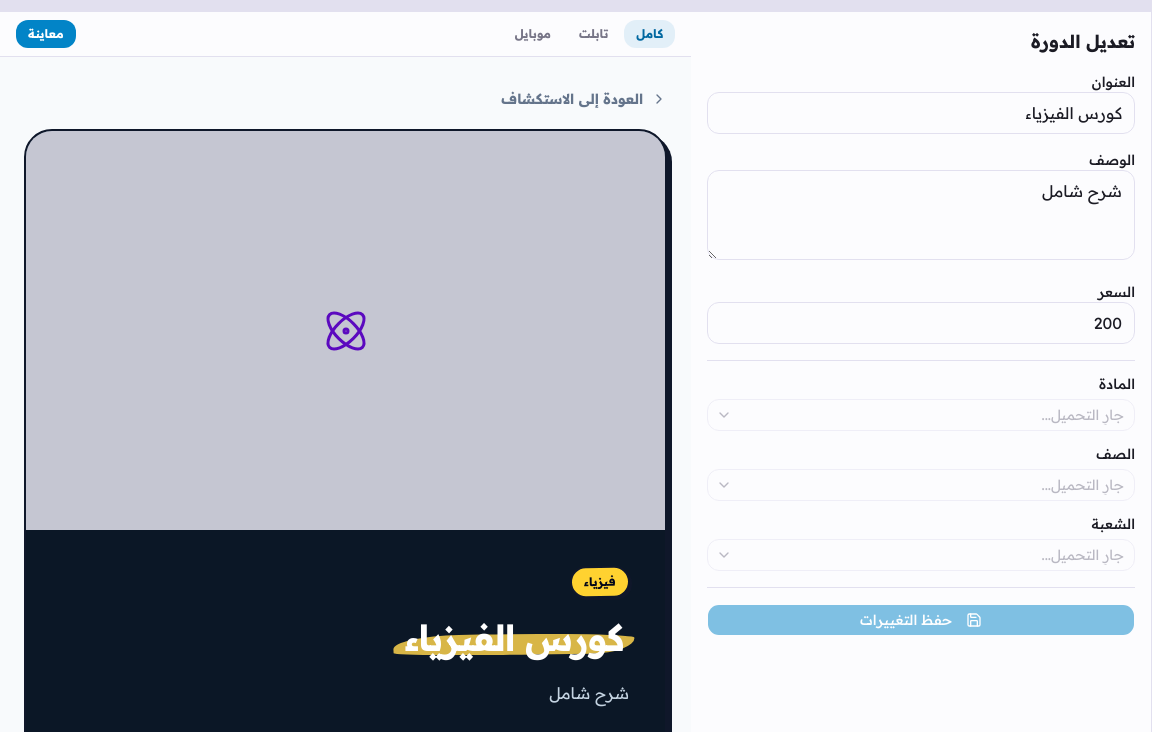
CourseWorkspace › updates preview when title changes
This screenshot has width=1152, height=732.
Replace the text in the field showing "كورس الفيزياء" with "كورس رياضيات": (921, 113) top-left (707, 92), bottom-right (1135, 134)
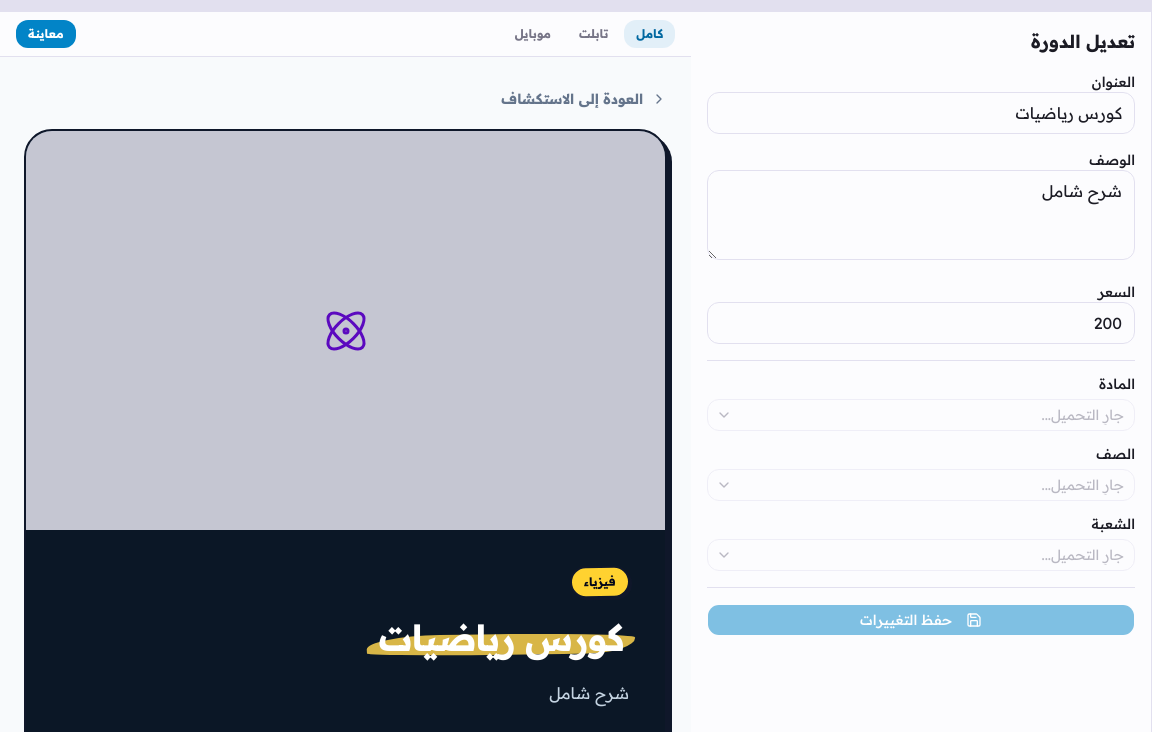
Expected: the text "كورس رياضيات" is shown, top-left (373, 618), bottom-right (629, 659)
